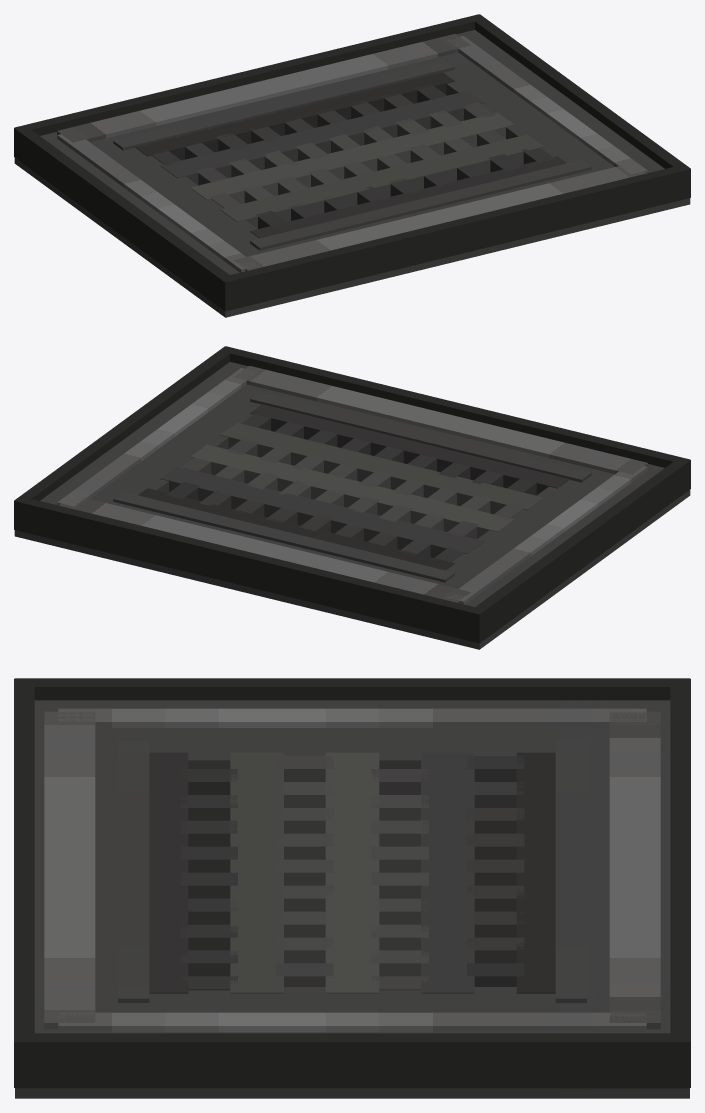
Rendered from CMU3DMaintenanceHatchCloud.glb.
The picture shows the model from 3 angles, top to bottom: view 1: azimuth 30°, elevation 25°; view 2: azimuth 150°, elevation 25°; view 3: azimuth 270°, elevation 25°; orthographic projection. The views are drawn at different scales.
Visible parts, largest first — view 1: south outer lip, west outer lip, east perimeter casting, north bright rim source strip, west perimeter casting, north outer lip, cross rib source row 24, cross rib source row 20, cross rib source row 22, south bright rim source strip, cross rib source row 18, south perimeter casting (+7 smaller); view 2: north outer lip, west outer lip, east perimeter casting, south bright rim source strip, west perimeter casting, south outer lip, cross rib source row 20, cross rib source row 24, cross rib source row 22, north bright rim source strip, north perimeter casting, cross rib source row 26 (+7 smaller); view 3: east outer lip, east perimeter casting, west perimeter casting, south bright rim source strip, north bright rim source strip, west outer lip, north perimeter casting, south perimeter casting, cross rib source row 22, cross rib source row 20, cross rib source row 24, east bright rim source strip (+43 smaller).
Part boxes in pixels (box(x1,y1,x2,y2)): south outer lip: box(219, 164, 690, 311); west outer lip: box(14, 126, 234, 310); east perimeter casting: box(419, 30, 689, 225); north bright rim source strip: box(57, 33, 470, 142); west perimeter casting: box(16, 134, 306, 317); north outer lip: box(14, 14, 485, 135); cross rib source row 24: box(220, 134, 544, 228); cross rib source row 20: box(161, 90, 484, 184); cross rib source row 22: box(190, 112, 514, 203); south bright rim source strip: box(234, 165, 646, 271); cross rib source row 18: box(135, 72, 454, 160); south perimeter casting: box(184, 151, 690, 317); north outer lip: box(14, 496, 485, 643); west outer lip: box(472, 458, 690, 642); east perimeter casting: box(14, 362, 284, 557); south bright rim source strip: box(234, 365, 647, 474); west perimeter casting: box(402, 467, 688, 648); south outer lip: box(220, 346, 690, 467); cross rib source row 20: box(160, 466, 484, 557); cross rib source row 24: box(220, 422, 543, 514); cross rib source row 22: box(190, 444, 514, 538); north bright rim source strip: box(58, 497, 470, 603); north perimeter casting: box(14, 482, 500, 649); cross rib source row 26: box(250, 404, 569, 494); east outer lip: box(15, 1033, 689, 1088); east perimeter casting: box(15, 987, 688, 1098); west perimeter casting: box(34, 700, 670, 768); south bright rim source strip: box(44, 711, 95, 1029); north bright rim source strip: box(609, 711, 660, 1029); west outer lip: box(15, 678, 689, 700); north perimeter casting: box(559, 700, 689, 1098); south perimeter casting: box(15, 700, 145, 1098); cross rib source row 22: box(325, 752, 379, 993); cross rib source row 20: box(421, 752, 474, 993); cross rib source row 24: box(230, 752, 283, 993); east bright rim source strip: box(58, 1012, 646, 1032).
Bounding box in the file's own units: 0.877 × 0.064 × 0.6895.
Materials: 30 (6 with a texture image).
